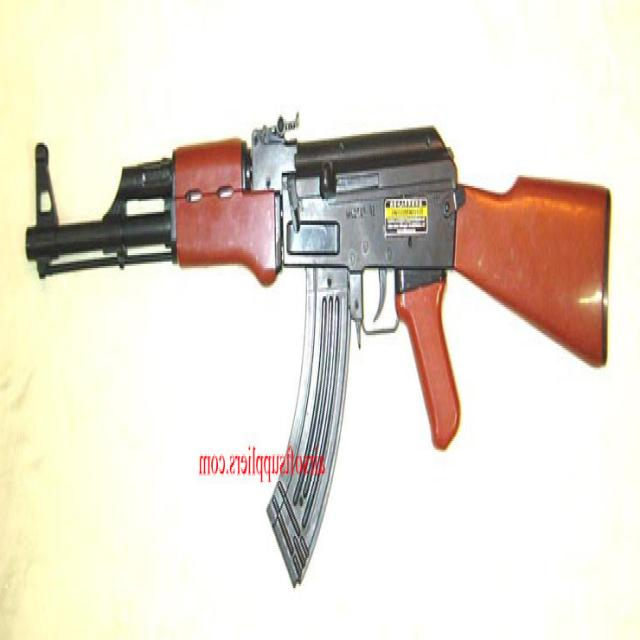Gun: (16, 90, 620, 593)
